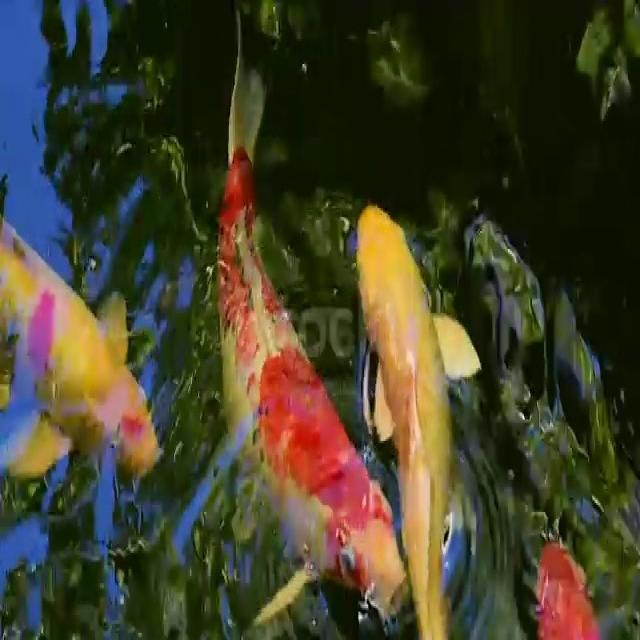fish: (210, 26, 412, 640), (342, 188, 488, 640), (0, 187, 167, 537), (538, 506, 596, 640)
